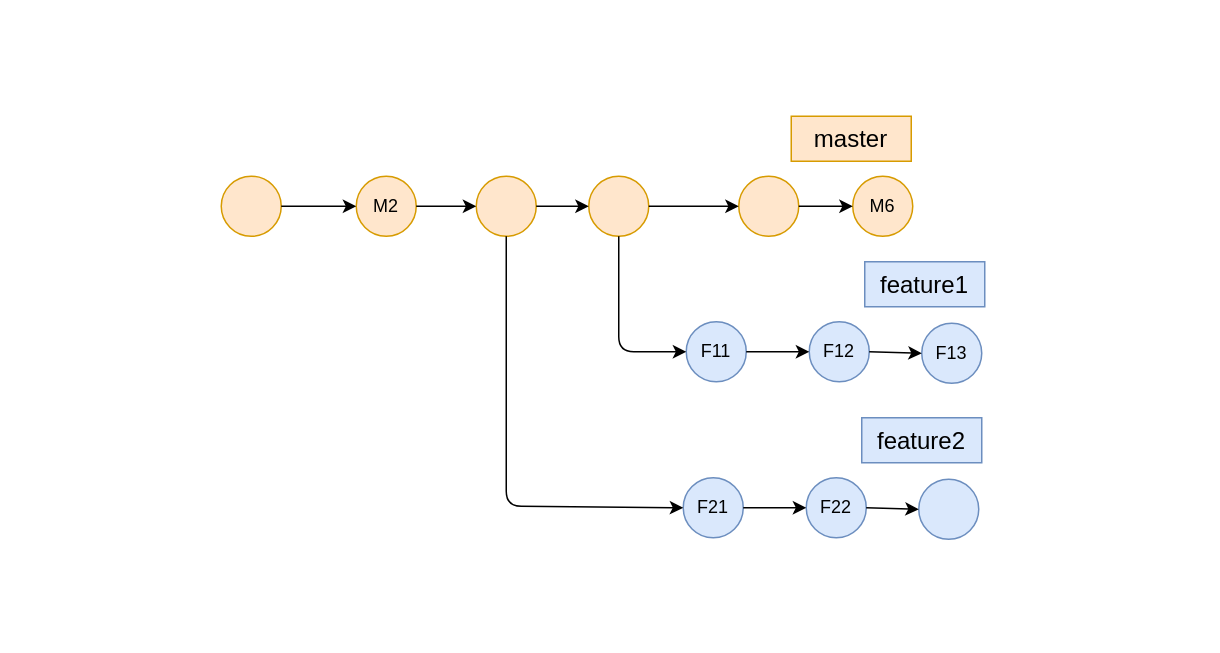
Image size: 1220x653. Some labels were removed from this diagram. The centre of each missing label's shape, as x and y in pixels:
"F23" belongs at point 948,508.
"M1" belongs at point 250,205.
"M3" belongs at point 505,205.
"M4" belongs at point 618,205.
"M5" belongs at point 768,205.
